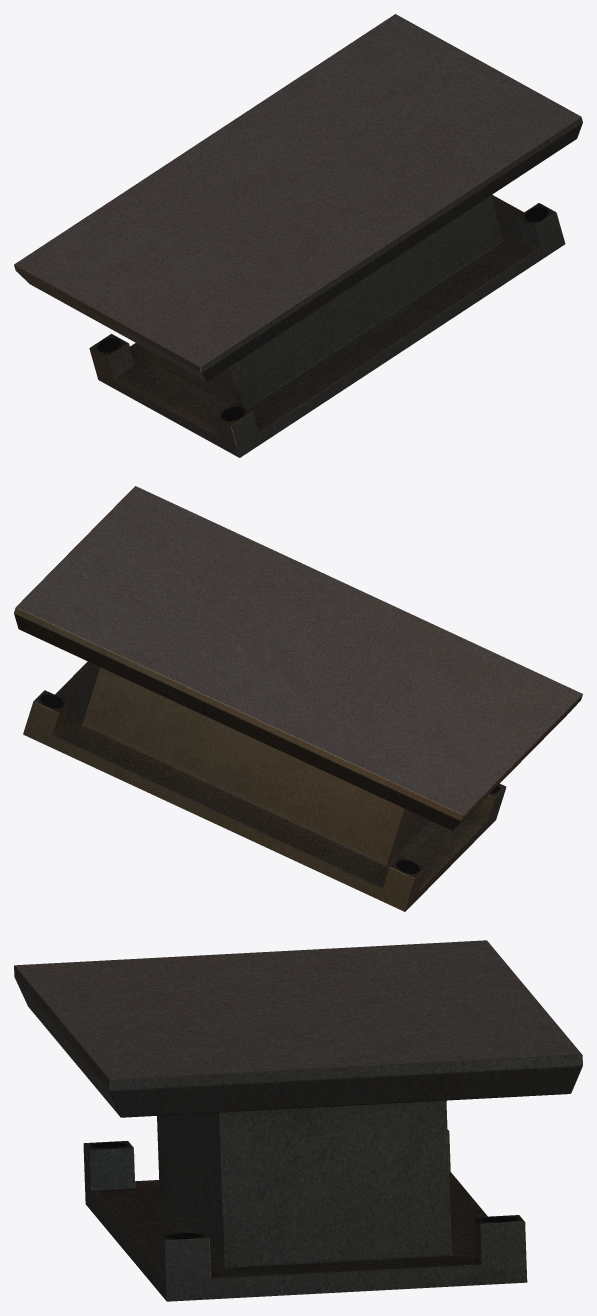
The model's file is AltarTable.obj.
3 renders of one model, top to bottom at view 1: azimuth 30°, elevation 25°; view 2: azimuth 150°, elevation 25°; view 3: azimuth 270°, elevation 25°, orthographic. The views are drawn at different scales.
Parts seen in each view (by area): view 1: Plane.004_0; view 2: Plane.004_0; view 3: Plane.004_0.
Boxes of the visible parts, box(x1,y1,x2,y2) form: Plane.004_0: box(14, 14, 582, 457); Plane.004_0: box(14, 486, 582, 911); Plane.004_0: box(14, 940, 582, 1301).
Size of the model in its own units: 2.65 by 1.42 by 1.87.
